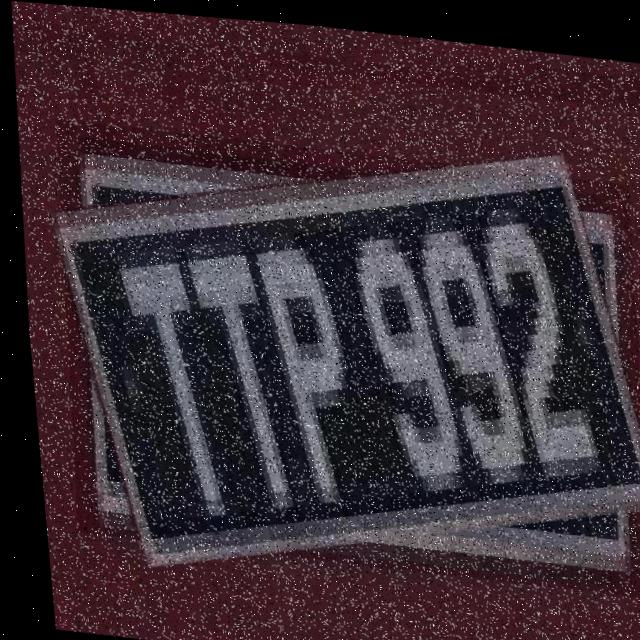LicensePlate: (39, 116, 640, 589)
